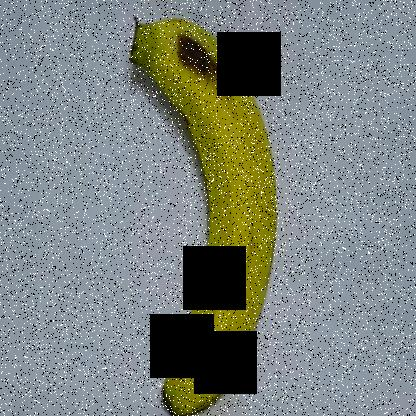freshripe: (126, 5, 292, 415)
